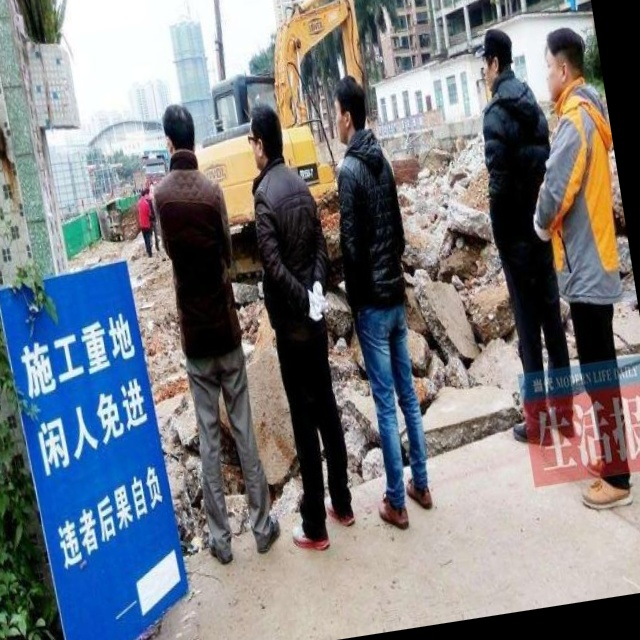Sin_Casco_Mascarrilla: (241, 99, 288, 168), (158, 98, 201, 171), (328, 71, 371, 141)
Sin_Chaleco: (150, 167, 251, 364), (325, 133, 419, 317), (246, 161, 340, 339)
